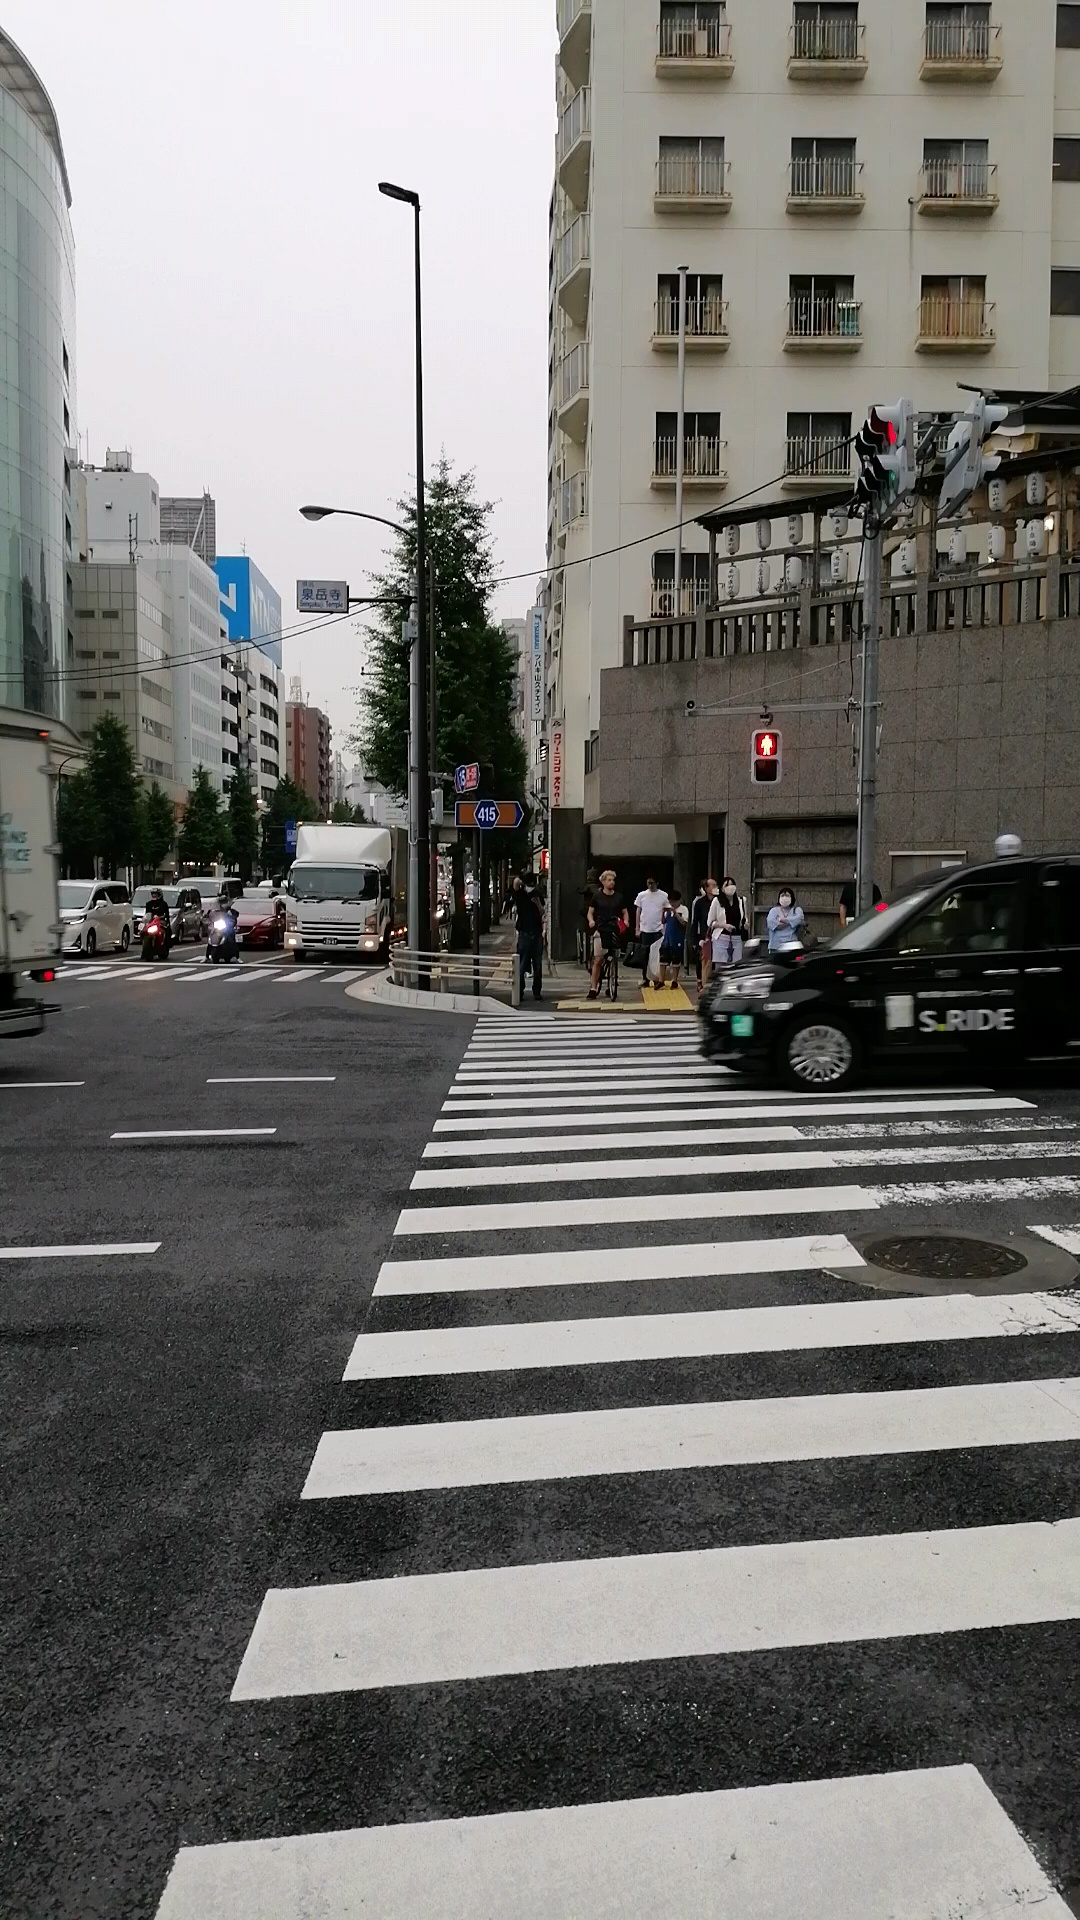red: (750, 727, 783, 785)
